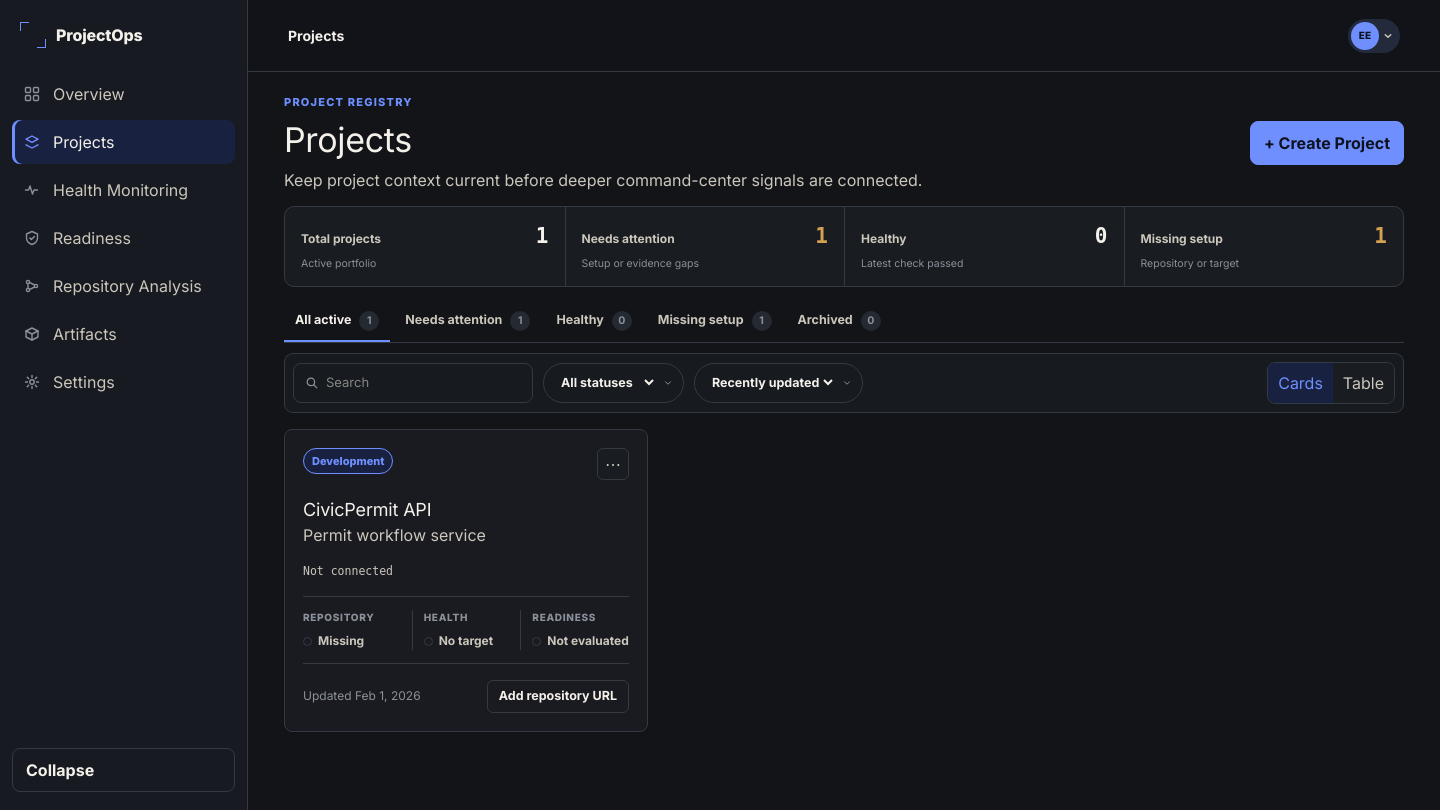
Test: auth routes › logs out and returns to login
Click the button with aria-label "Account menu" at (1374, 36), box [1348,18,1400,52]
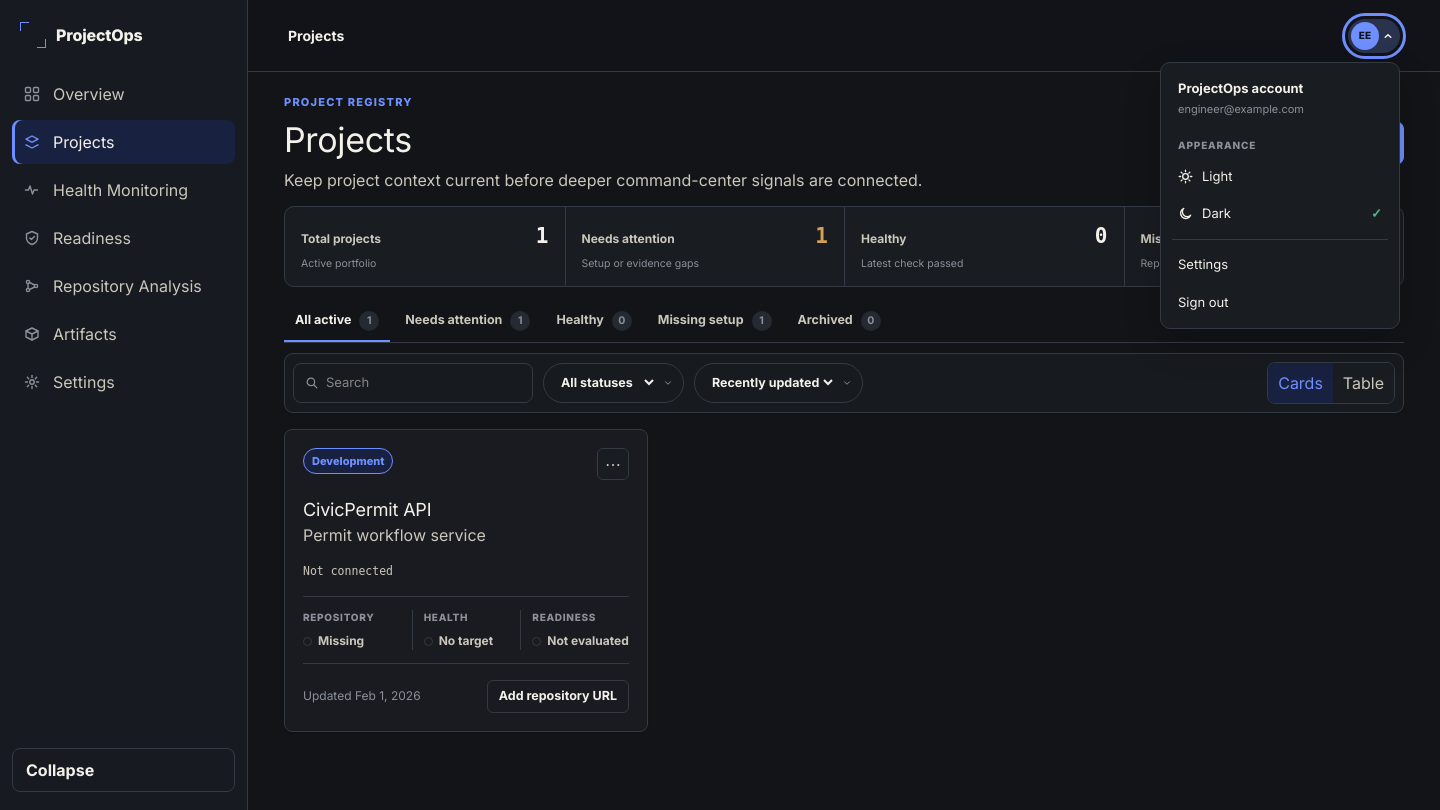
Click the menu item "Sign out" at (1280, 302), box [1168,284,1392,320]
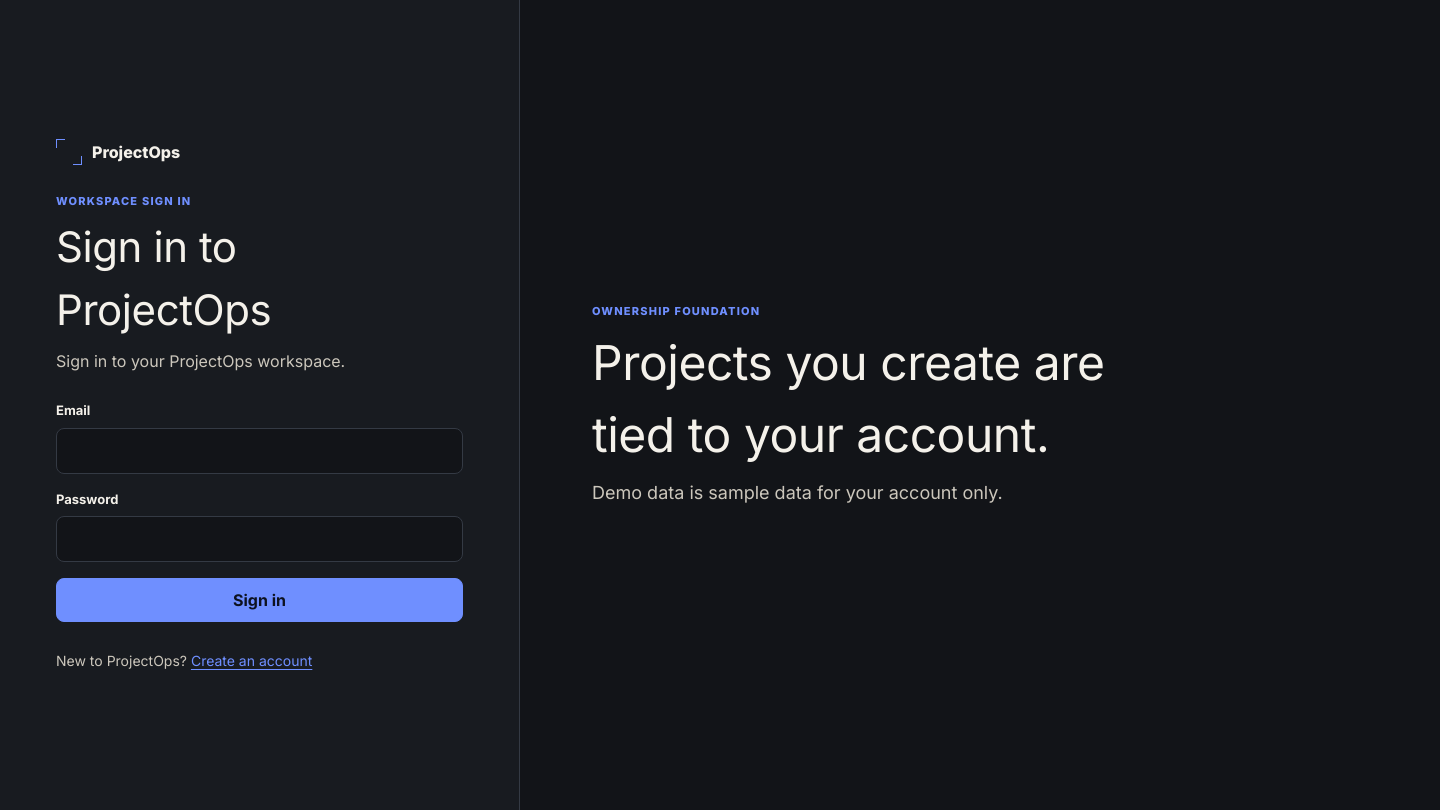
expect the heading "Sign in to ProjectOps" is shown: met, box [56,221,271,335]
